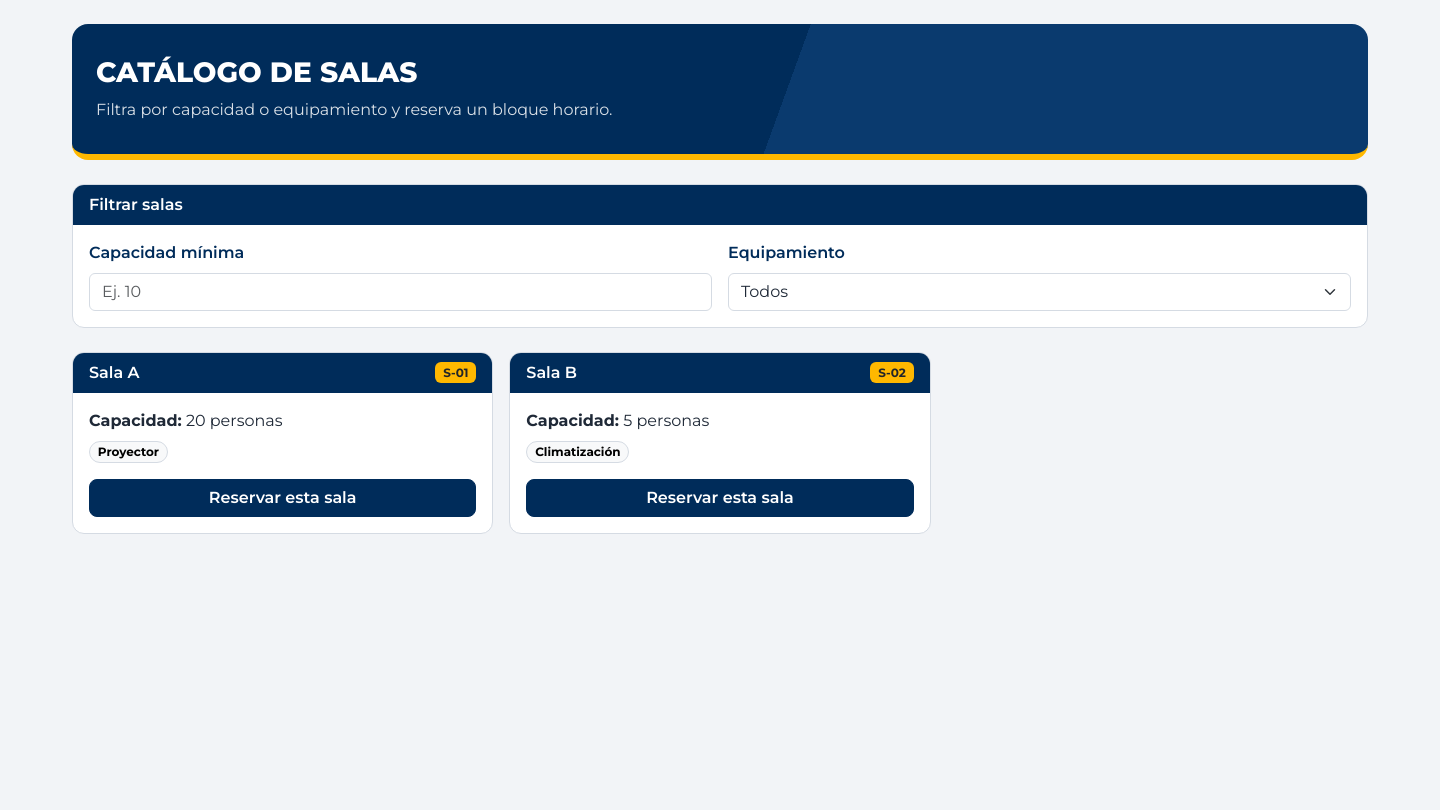
Scenario: Página de Salas › con datos válidos agrega el bloque al borrador con fecha, horario y relator
This screenshot has width=1440, height=810.
Click the button "Reservar esta sala" below "Proyector": (283, 498) [89,479,476,517]
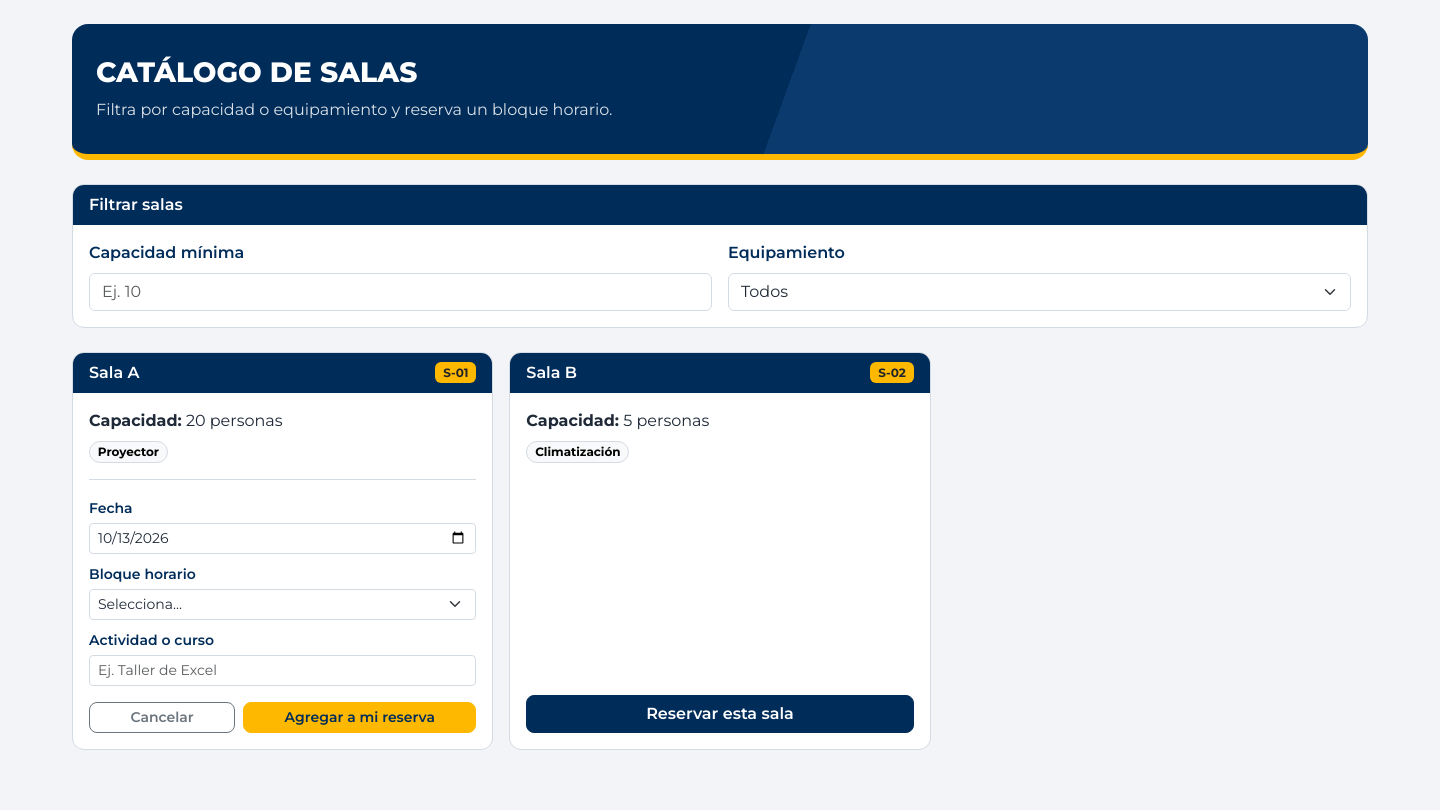
In the date field labelled "Fecha": (283, 538) [89,523,476,554], type "2026-10-20"
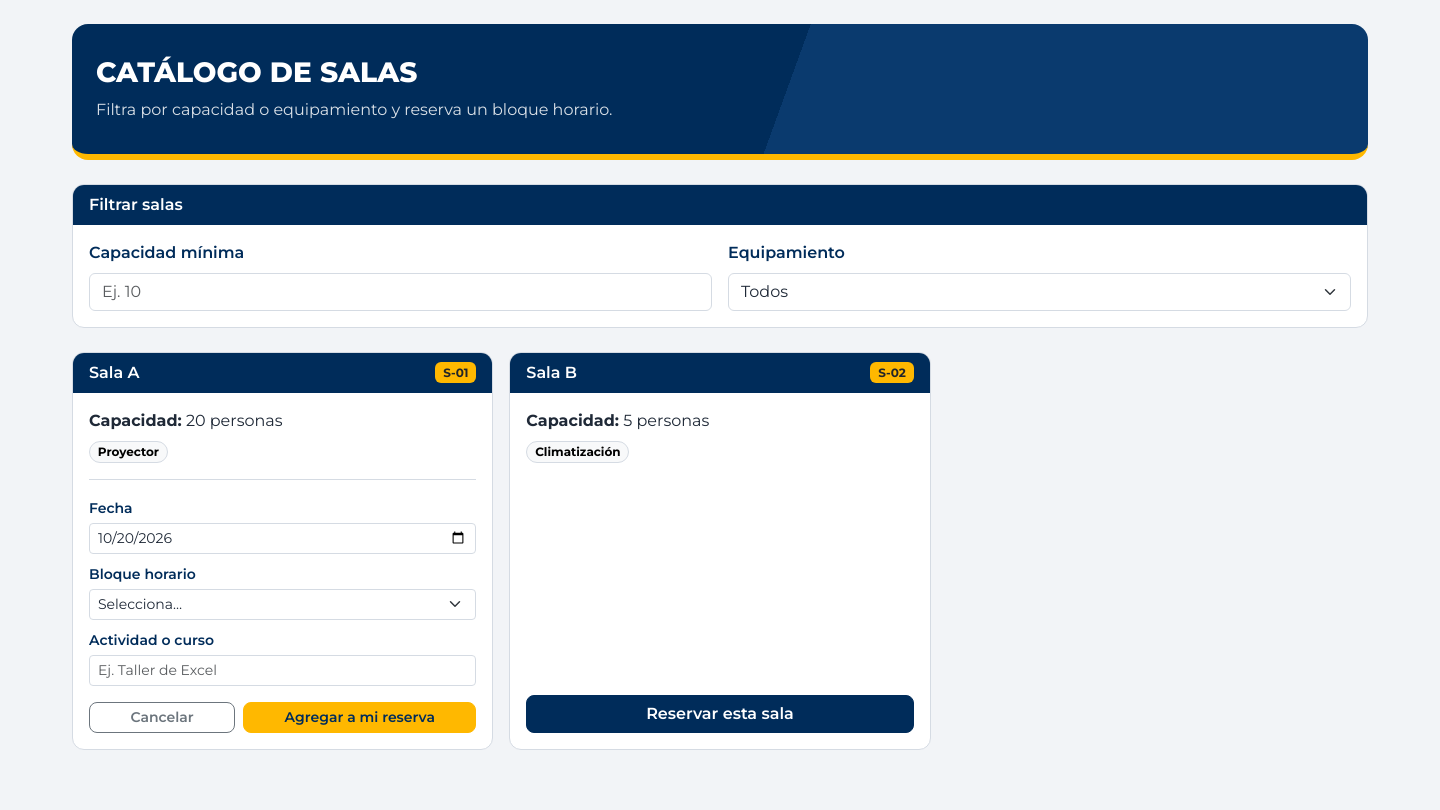
Select "09:05 – 10:00" in the dropdown labelled "Bloque horario": (283, 604) [89,589,476,620]
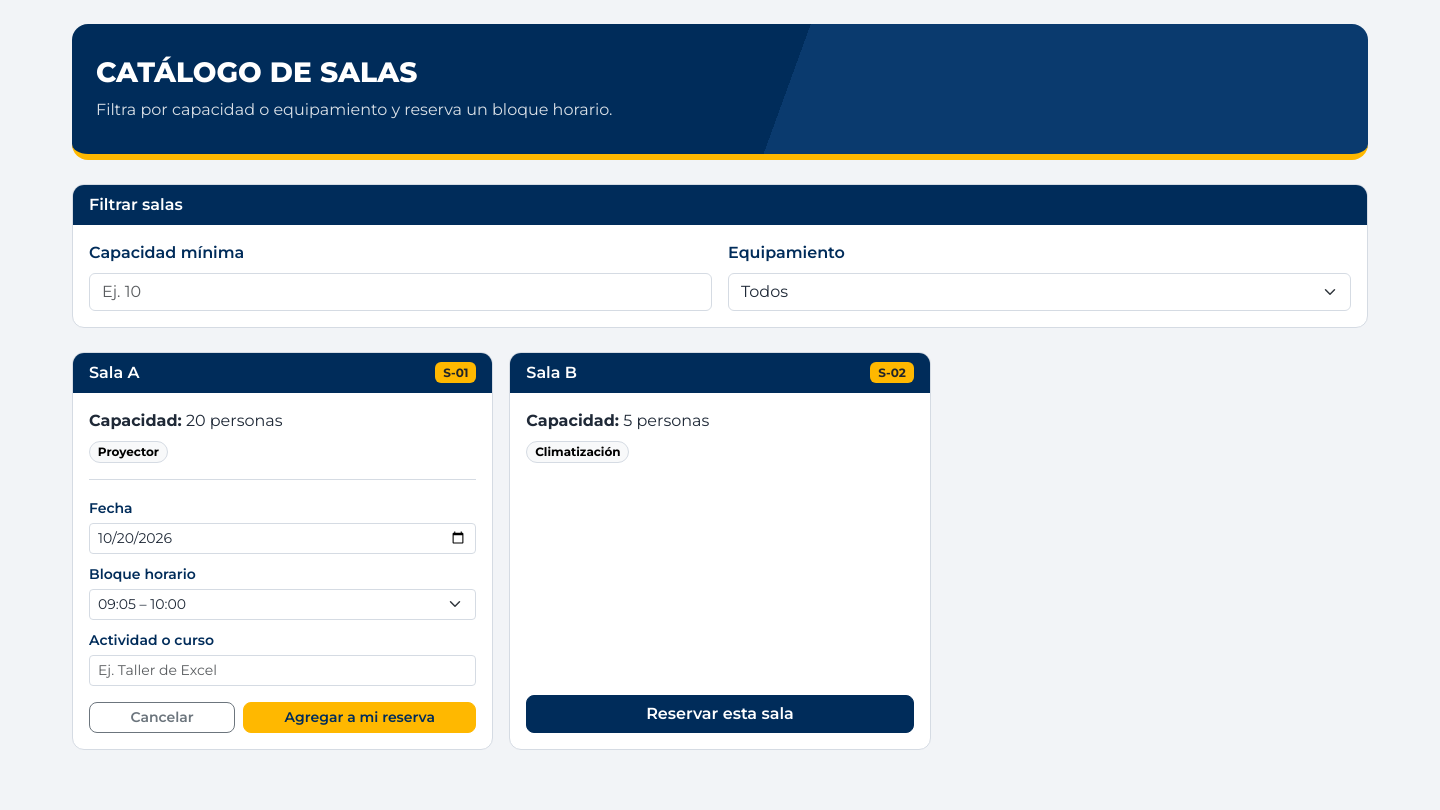
In the field labelled "Actividad o curso": (283, 670) [89,655,476,686], type "Taller Python"
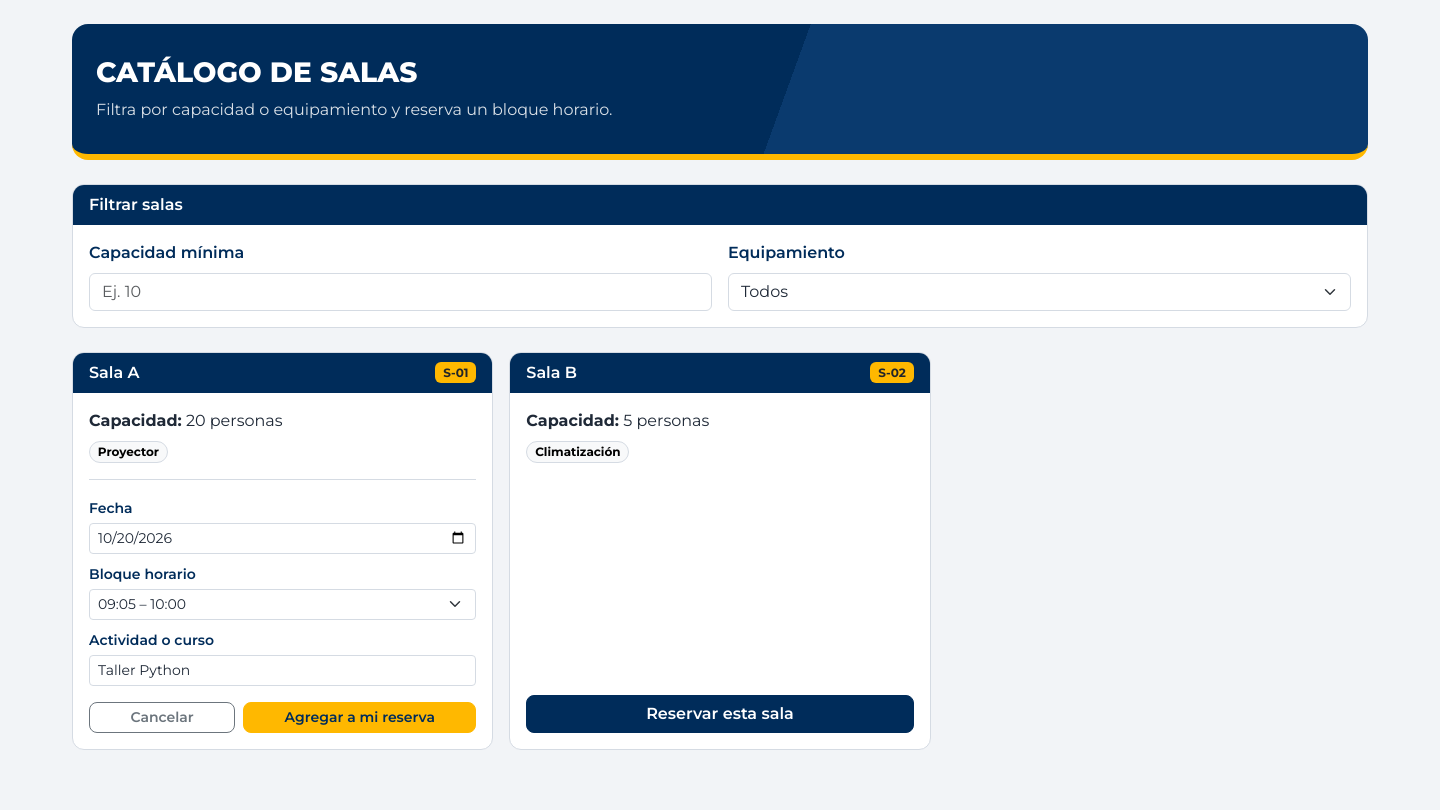
Click the button "Agregar a mi reserva": (360, 718) [243,702,476,733]
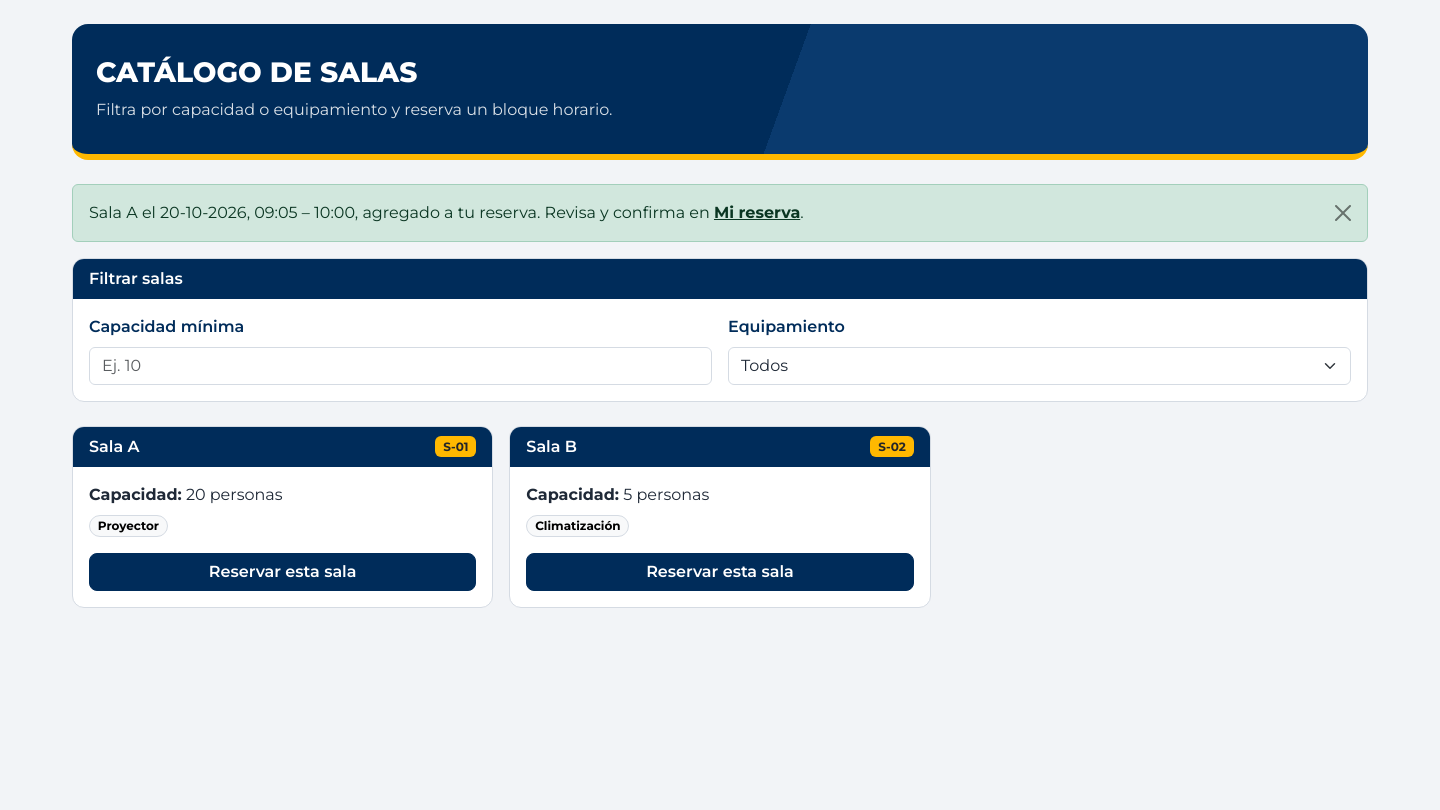
Check: the text "agregado a tu reserva" is shown, box [89,203,540,222]
